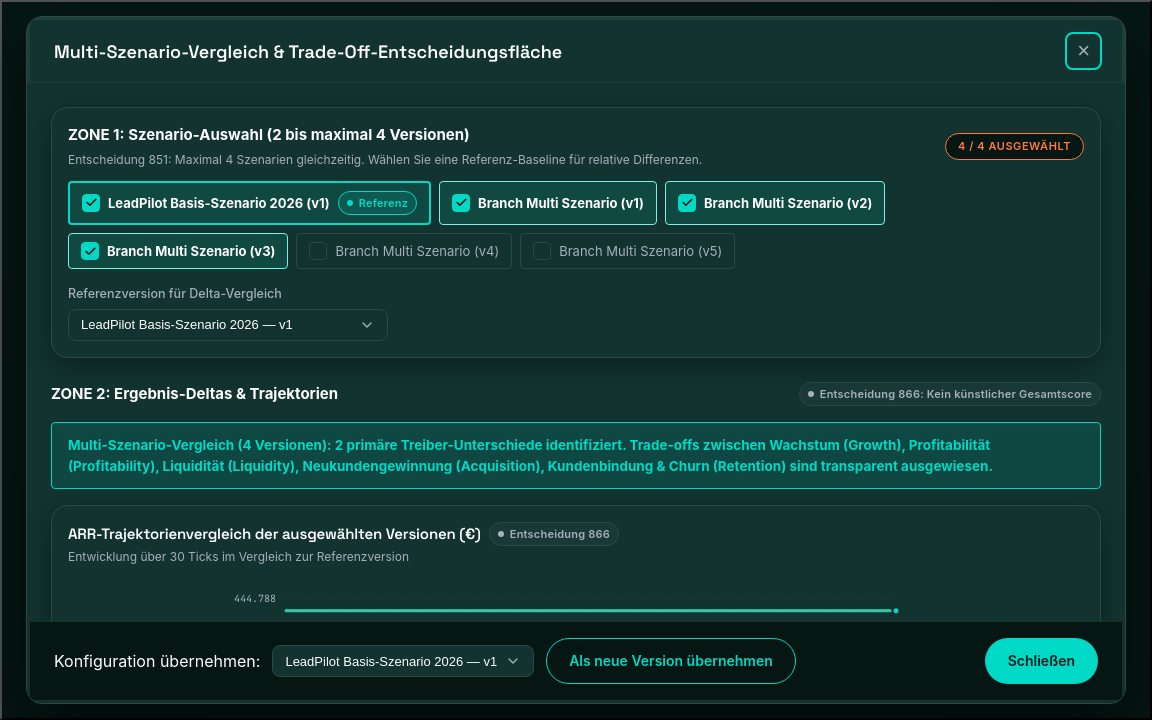
Test case: MultiScenarioComparisonModal (branch) › Übernahme-Flow: übernehmen zeigt Erfolgsmeldung
Click the button "Als neue Version übernehmen".
click(671, 661)  # box [546,638,796,684]
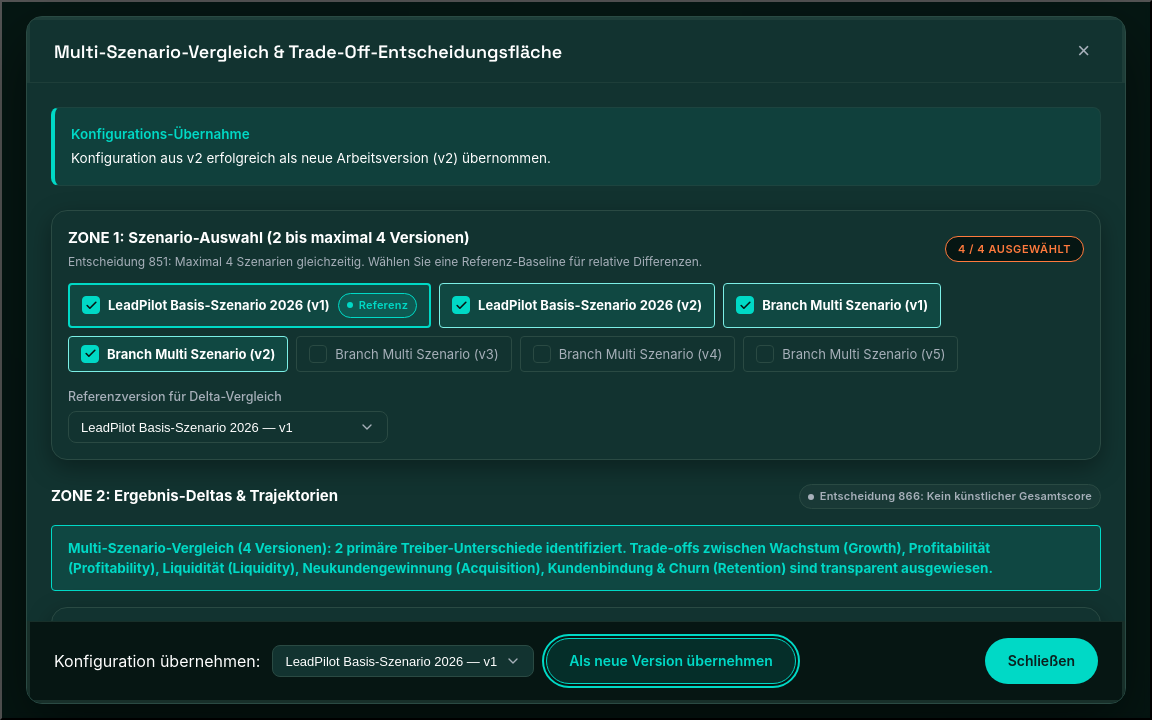
Check: the text "Konfigurations-Übernahme" is shown, box [71,126,250,142]
Check: the text "erfolgreich als neue Arbeitsversion" is shown, box [71,150,551,166]
